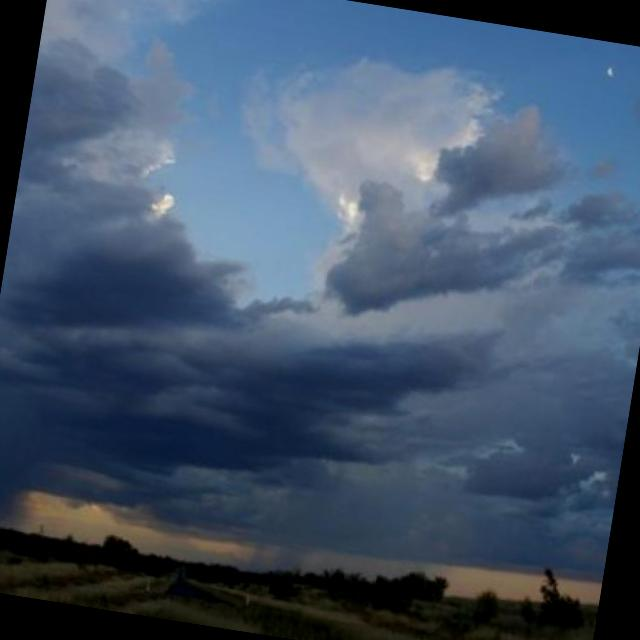cumulonimbus: (0, 12, 640, 578)
